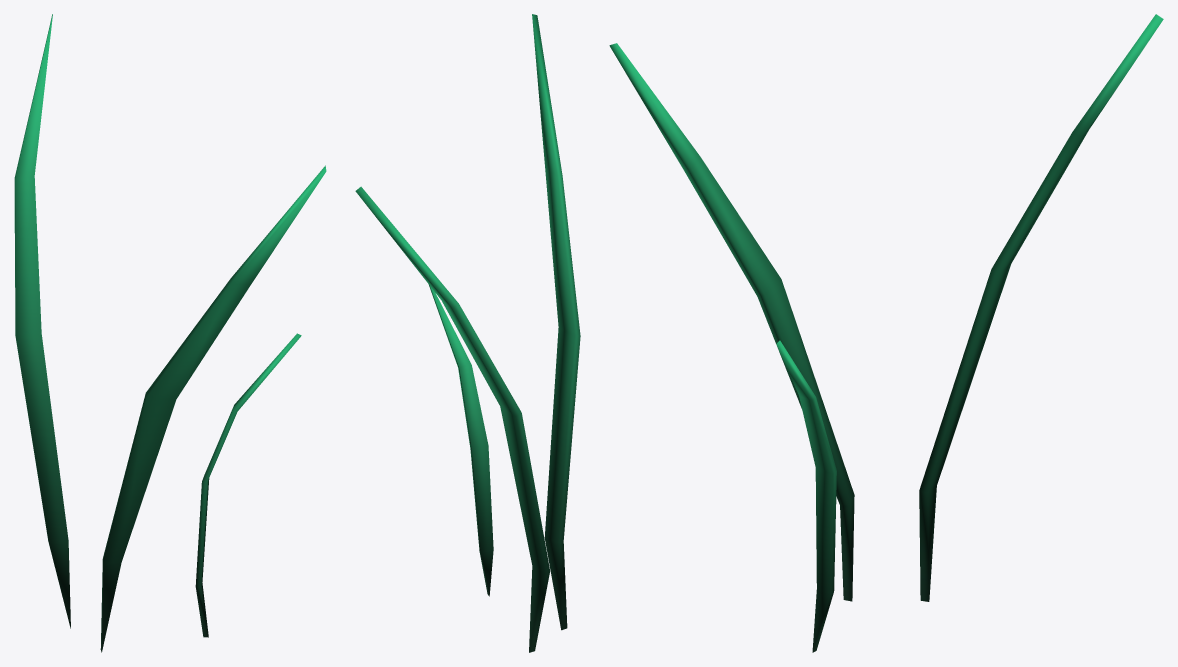
Rendered from grass6.fbx.
3 views of the same model, side by side, from view 1: azimuth 30°, elevation 25°; view 2: azimuth 150°, elevation 25°; view 3: azimuth 270°, elevation 25° (orthographic). The views are drawn at different scales.
Visible parts, largest first — view 1: grass7; view 2: grass7; view 3: grass7.
Boxes of the visible parts, bbox=[...] form: grass7: bbox=[14, 14, 326, 652]; grass7: bbox=[355, 14, 580, 652]; grass7: bbox=[609, 14, 1163, 652].
Bounding box in the file's own units: 51.8 × 135 × 107.
